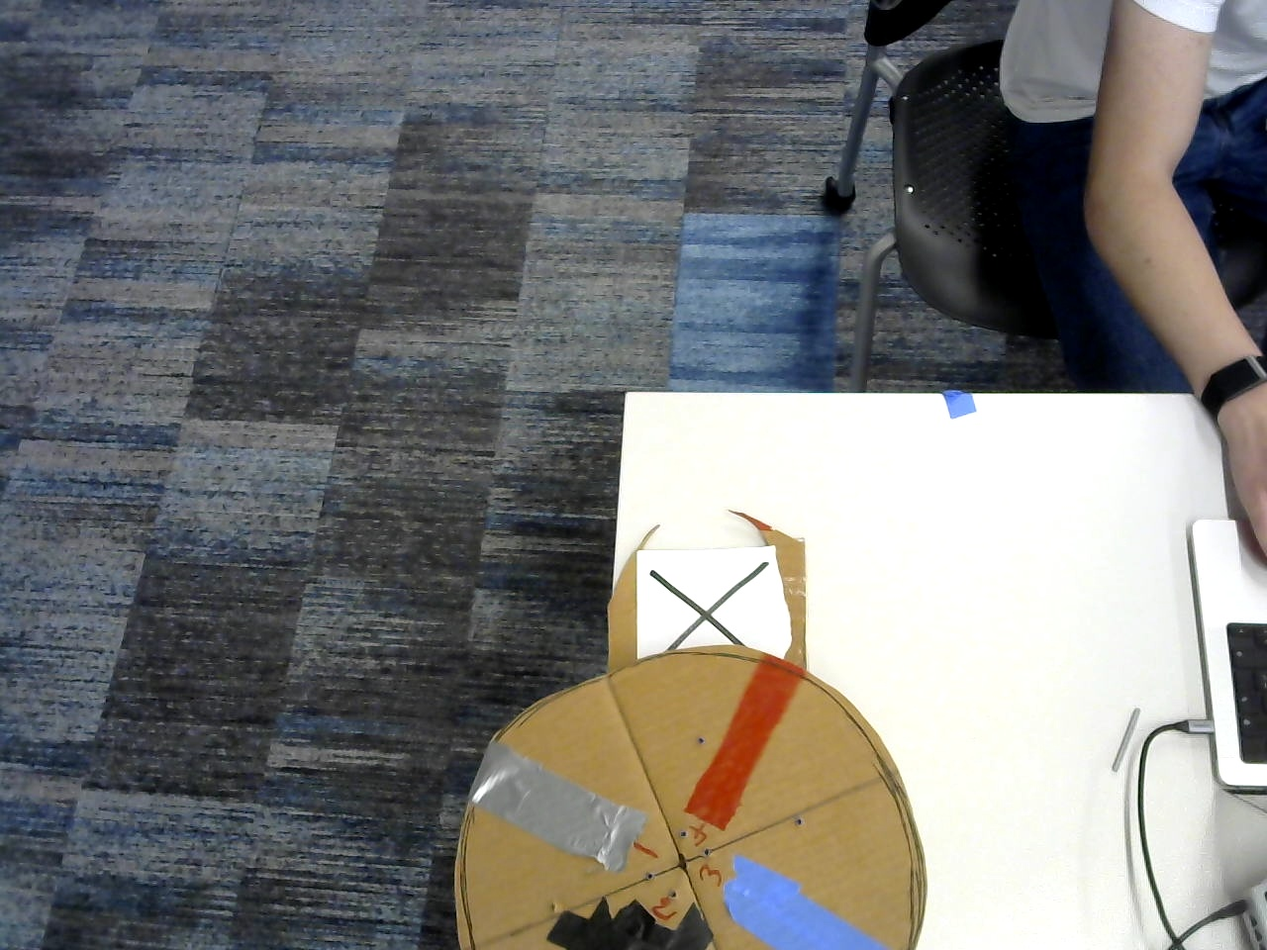black: (547, 902, 687, 950)
blue: (721, 856, 900, 950)
red: (684, 658, 803, 831)
silver: (475, 742, 648, 871)
x: (641, 553, 777, 654)
